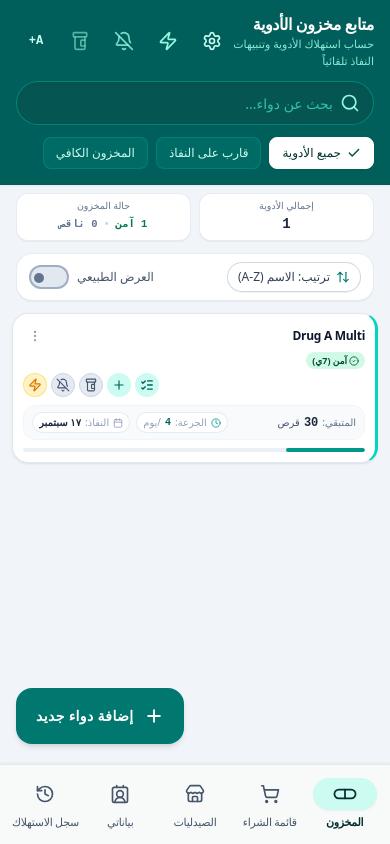
Scenario: App multi-dose manual consumption (real wiring) › opening manage UI does not mutate state before an action is chosen
expect the heading "Drug A Multi" is shown: met, box top-left (292, 327), bottom-right (365, 344)
Click the button with test id "manage-doses-med-multi" at (147,385), box top-left (135, 373), bottom-right (159, 397)
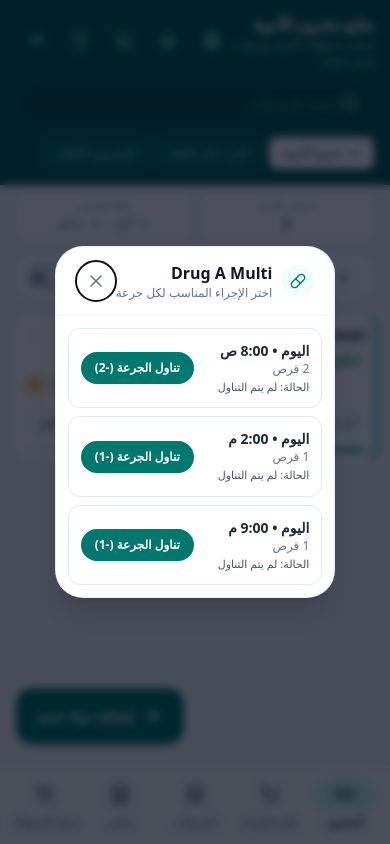
expect the text "اختر الإجراء المناسب لكل جرعة" is shown: met, box top-left (116, 285), bottom-right (272, 301)
